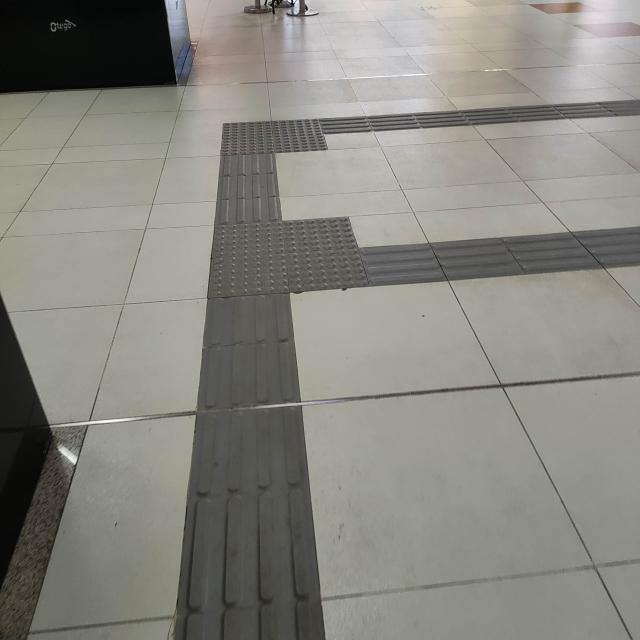kanan: (186, 96, 415, 170)
